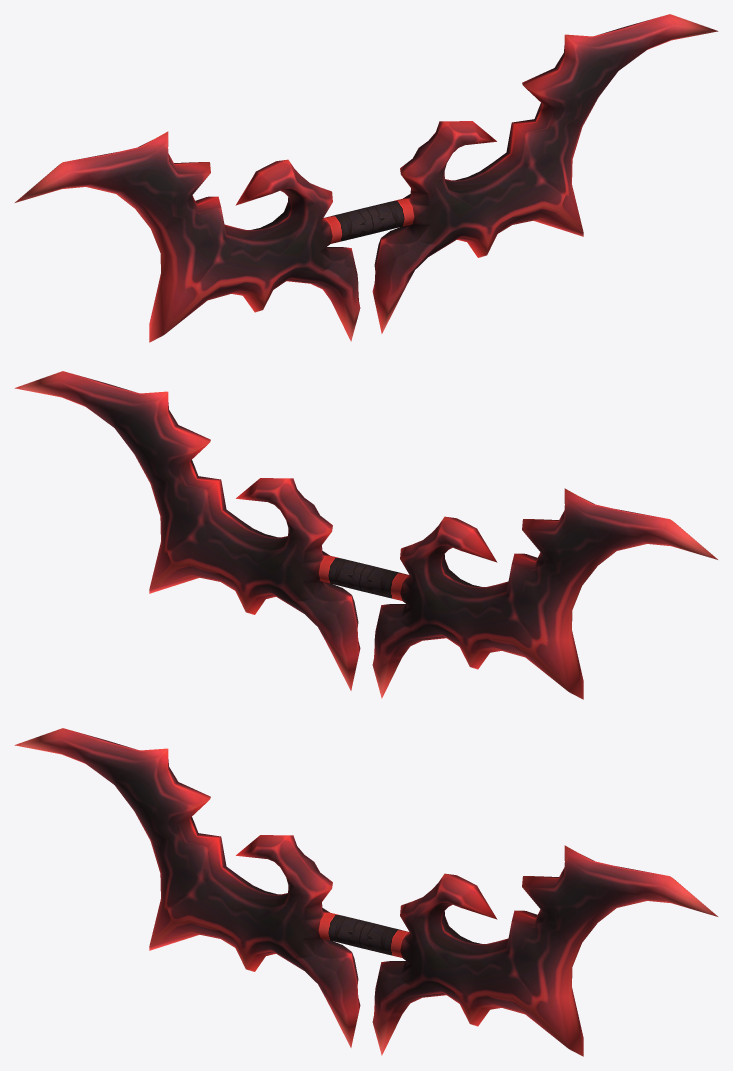
File: item_weabowmgm2501-et02.glb
The picture shows the model from 3 angles, top to bottom: view 1: azimuth 30°, elevation 25°; view 2: azimuth 150°, elevation 25°; view 3: azimuth 330°, elevation 25°; orthographic projection.
Parts seen in each view (by area): view 1: FlyffMesh; view 2: FlyffMesh; view 3: FlyffMesh.
Part boxes in pixels (bbox=[...]): FlyffMesh: bbox=[15, 14, 718, 342]; FlyffMesh: bbox=[14, 371, 717, 699]; FlyffMesh: bbox=[14, 728, 717, 1056].
Bounding box in the file's own units: 1.72 × 0.5959 × 0.1294.
1 material, 1 textured.
